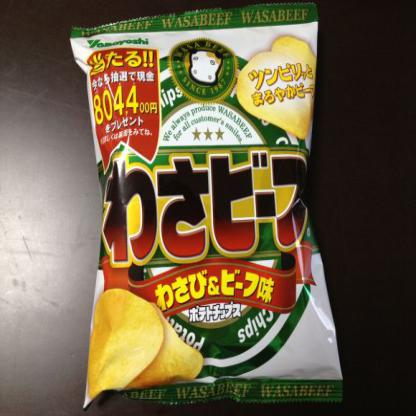potatochip: (58, 0, 352, 415)
